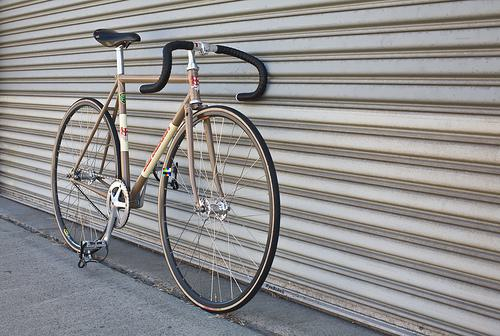car: (52, 29, 282, 316)
